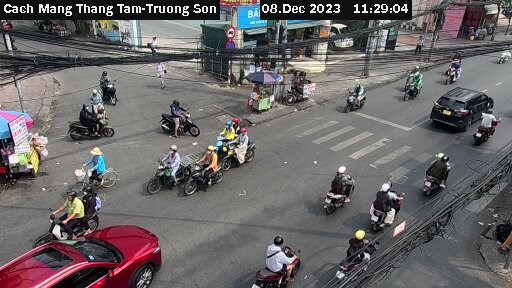car: (1, 227, 180, 288), (432, 79, 494, 139)
motorbike: (32, 198, 105, 238), (253, 237, 304, 288), (137, 152, 189, 197), (333, 235, 379, 281), (414, 159, 462, 202), (318, 173, 362, 217), (181, 157, 233, 194), (149, 103, 200, 140), (336, 80, 381, 121), (364, 190, 406, 230), (66, 110, 116, 142), (223, 138, 268, 169), (95, 76, 136, 108), (468, 114, 502, 150), (438, 60, 468, 88), (86, 95, 118, 121), (209, 130, 237, 154), (403, 79, 427, 105), (399, 68, 426, 86)
